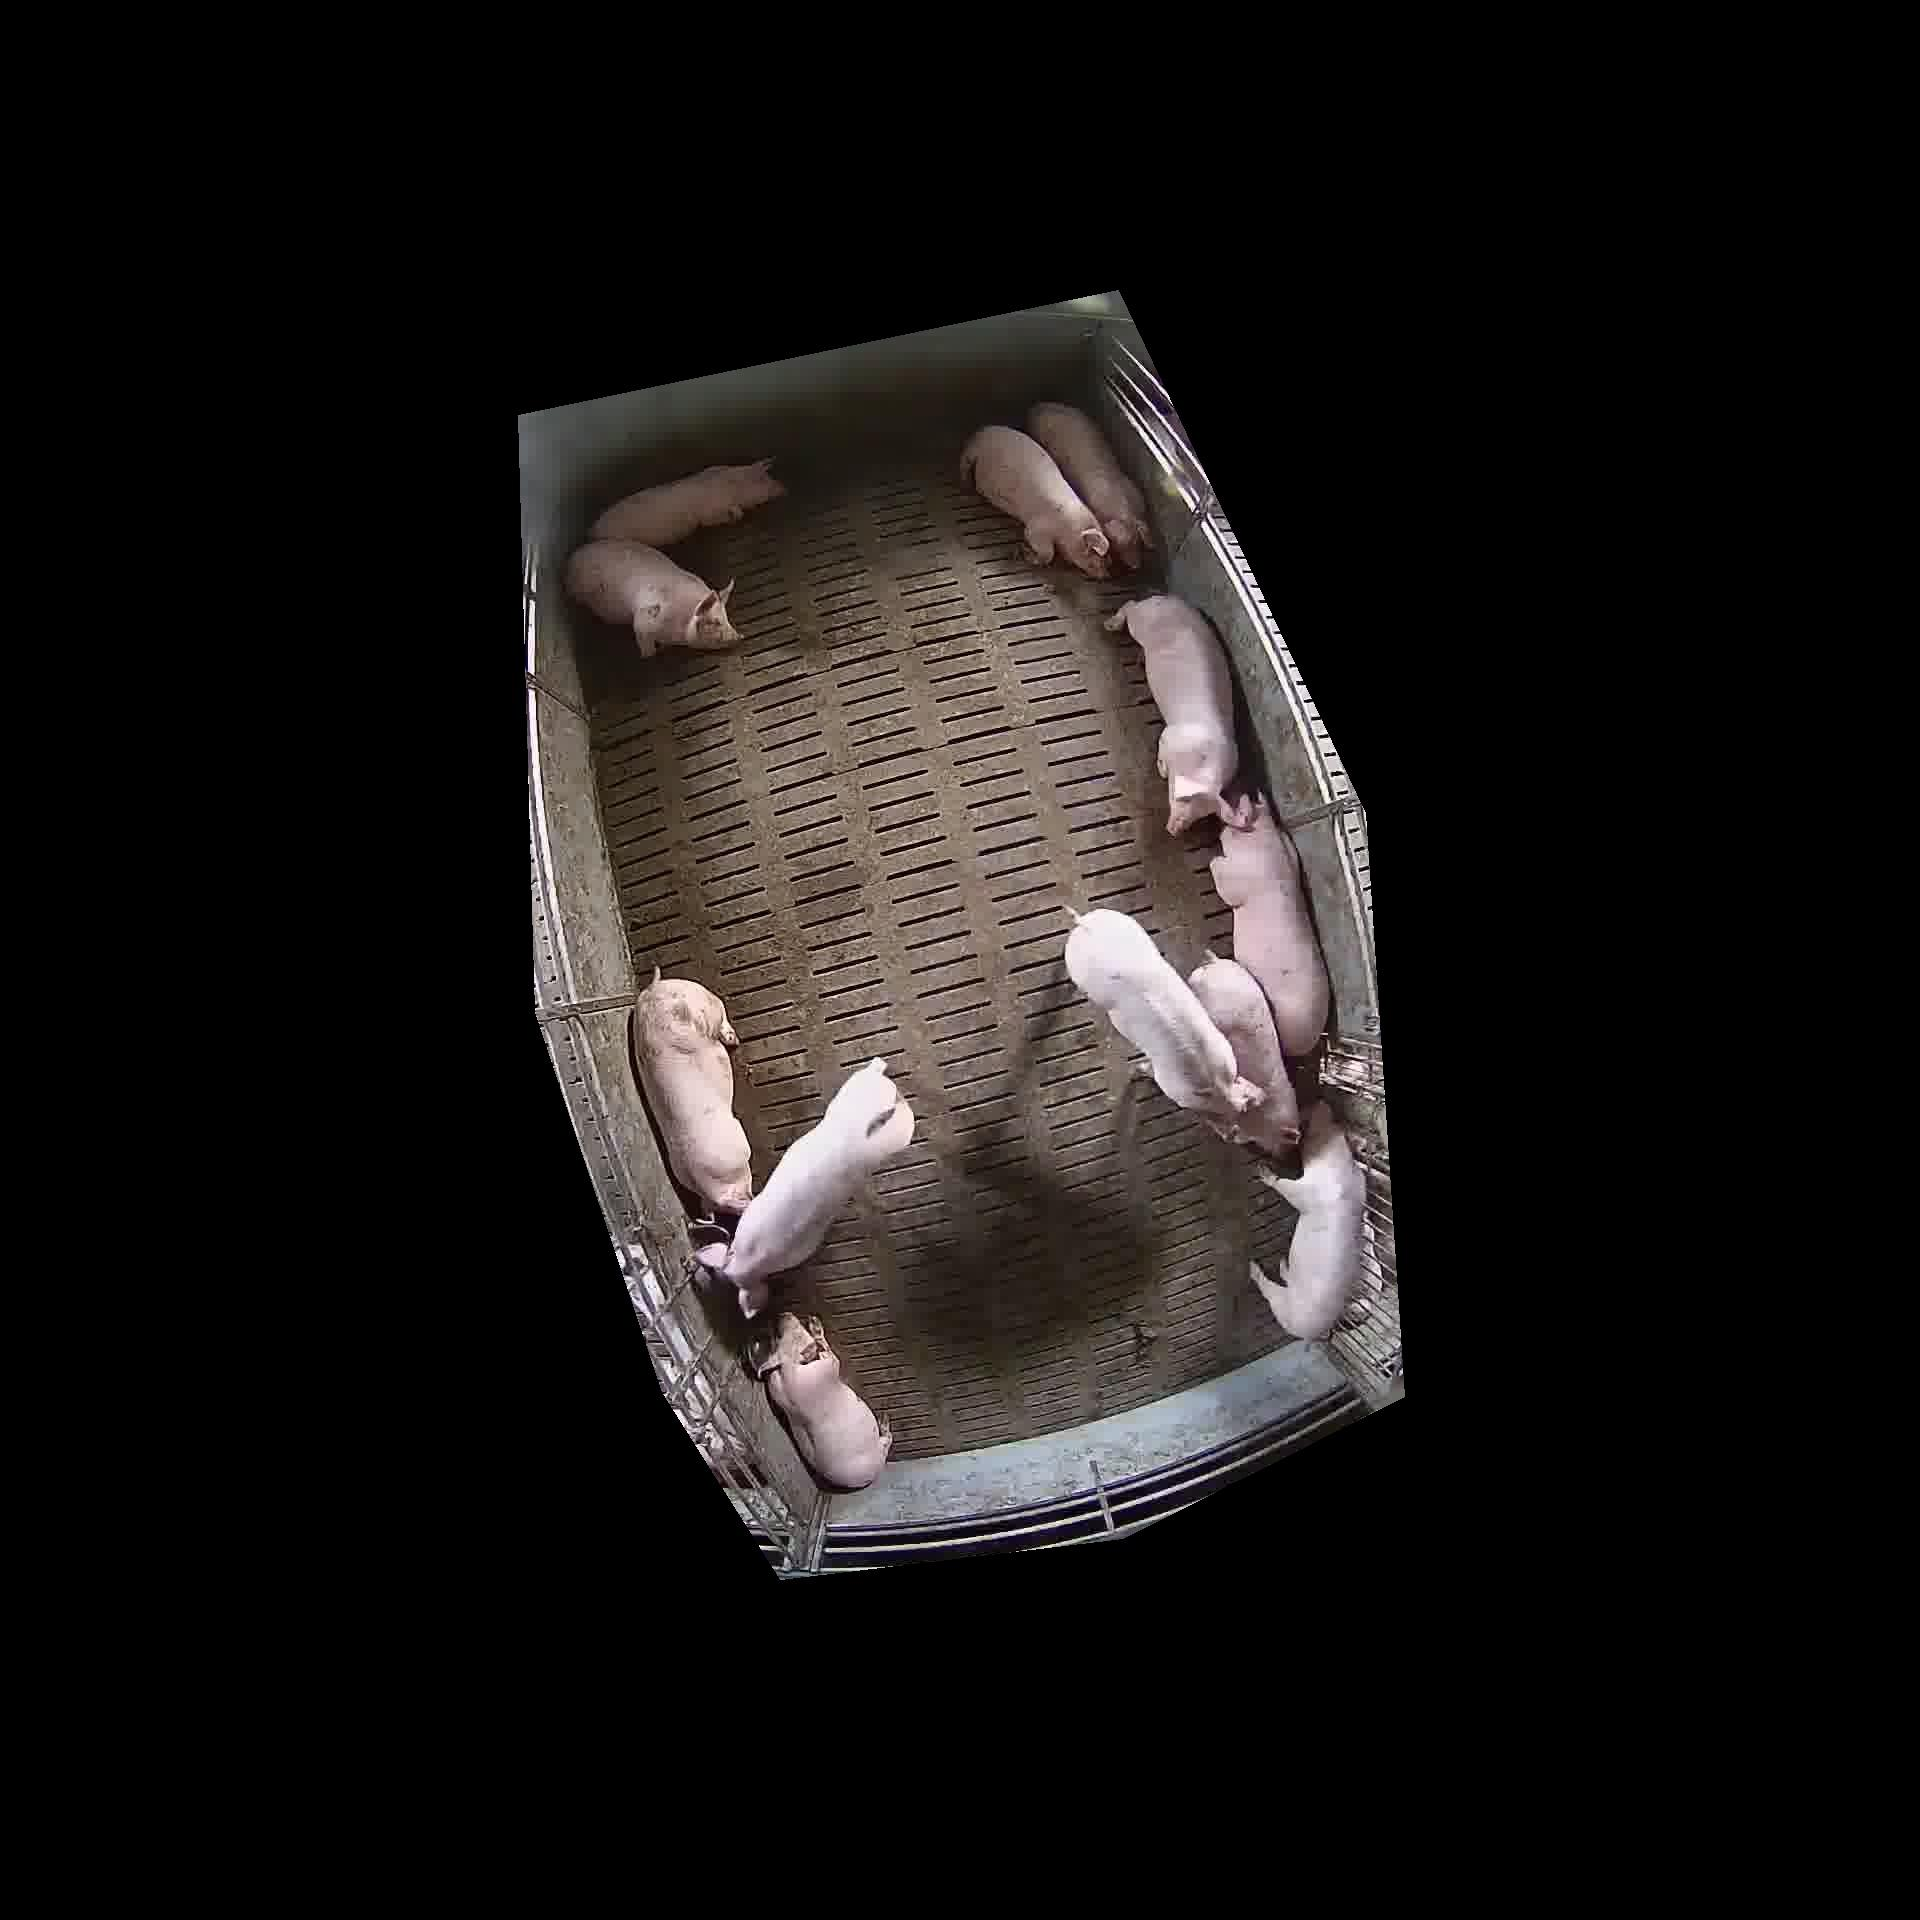pig: (723, 1058, 913, 1315), (1065, 909, 1262, 1136), (1108, 594, 1238, 833), (1211, 795, 1329, 1055), (633, 972, 751, 1213), (1250, 1102, 1364, 1340), (758, 1313, 891, 1487), (1189, 955, 1299, 1157), (962, 425, 1108, 577), (1027, 403, 1150, 568), (566, 540, 738, 656), (591, 459, 784, 547)
